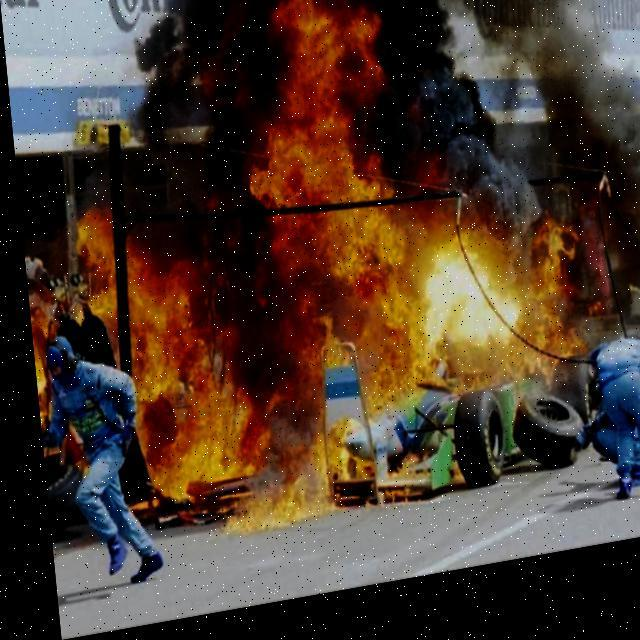Fire: (226, 0, 594, 449), (54, 174, 266, 548)
